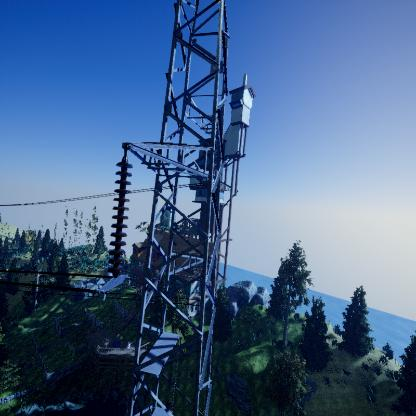insulator: (104, 160, 135, 277)
